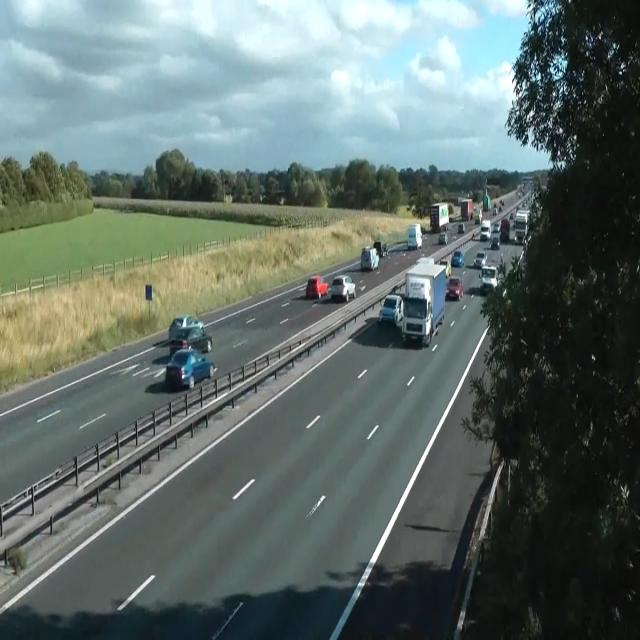bus: (165, 348, 215, 390), (377, 293, 403, 327), (330, 275, 356, 302), (306, 276, 328, 298), (445, 276, 463, 302), (473, 250, 488, 268), (439, 258, 451, 278), (450, 250, 464, 266), (490, 235, 500, 249), (438, 232, 448, 244), (492, 220, 500, 233), (278, 197, 286, 206), (458, 222, 464, 233), (500, 199, 504, 207)
jeep: (168, 314, 212, 354), (478, 264, 499, 294), (479, 219, 491, 240)
minibus: (401, 260, 446, 346), (514, 209, 530, 244), (430, 203, 449, 232), (360, 246, 379, 270), (406, 223, 422, 250), (460, 198, 473, 220), (373, 240, 387, 258), (482, 193, 490, 210), (474, 208, 482, 224)
